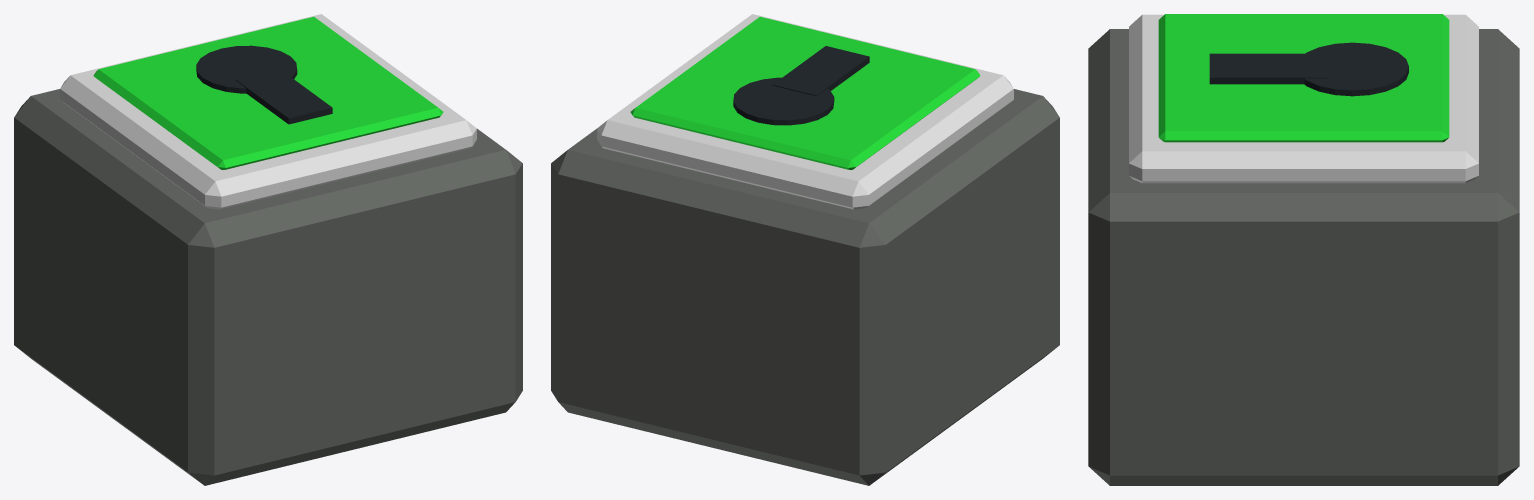
File: door-green.glb
3 renders of one model, left to right at view 1: azimuth 30°, elevation 25°; view 2: azimuth 150°, elevation 25°; view 3: azimuth 270°, elevation 25°, orthographic. The views are drawn at different scales.
Parts seen in each view (by area): view 1: door-green; view 2: door-green; view 3: door-green.
Part boxes in pixels (x1=…): door-green: x1=14, y1=14, x2=522, y2=485; door-green: x1=551, y1=14, x2=1059, y2=485; door-green: x1=1088, y1=14, x2=1519, y2=485.
Size of the model in its own units: 0.8 by 0.693 by 0.8.
